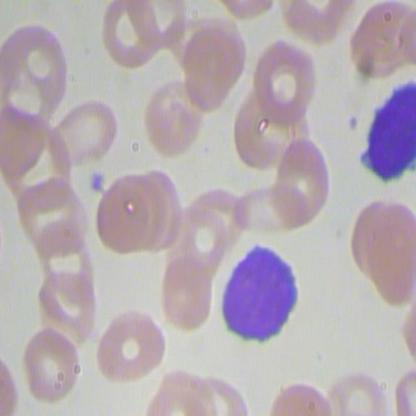Platelets: (87, 168, 109, 197)
RBC: (177, 17, 251, 121), (252, 36, 328, 129), (359, 198, 415, 308), (135, 78, 211, 159), (92, 307, 168, 387), (271, 133, 332, 228), (91, 168, 155, 257), (155, 246, 219, 335), (18, 323, 90, 401), (34, 264, 99, 342)
WBC: (219, 233, 305, 348), (361, 77, 415, 185)
